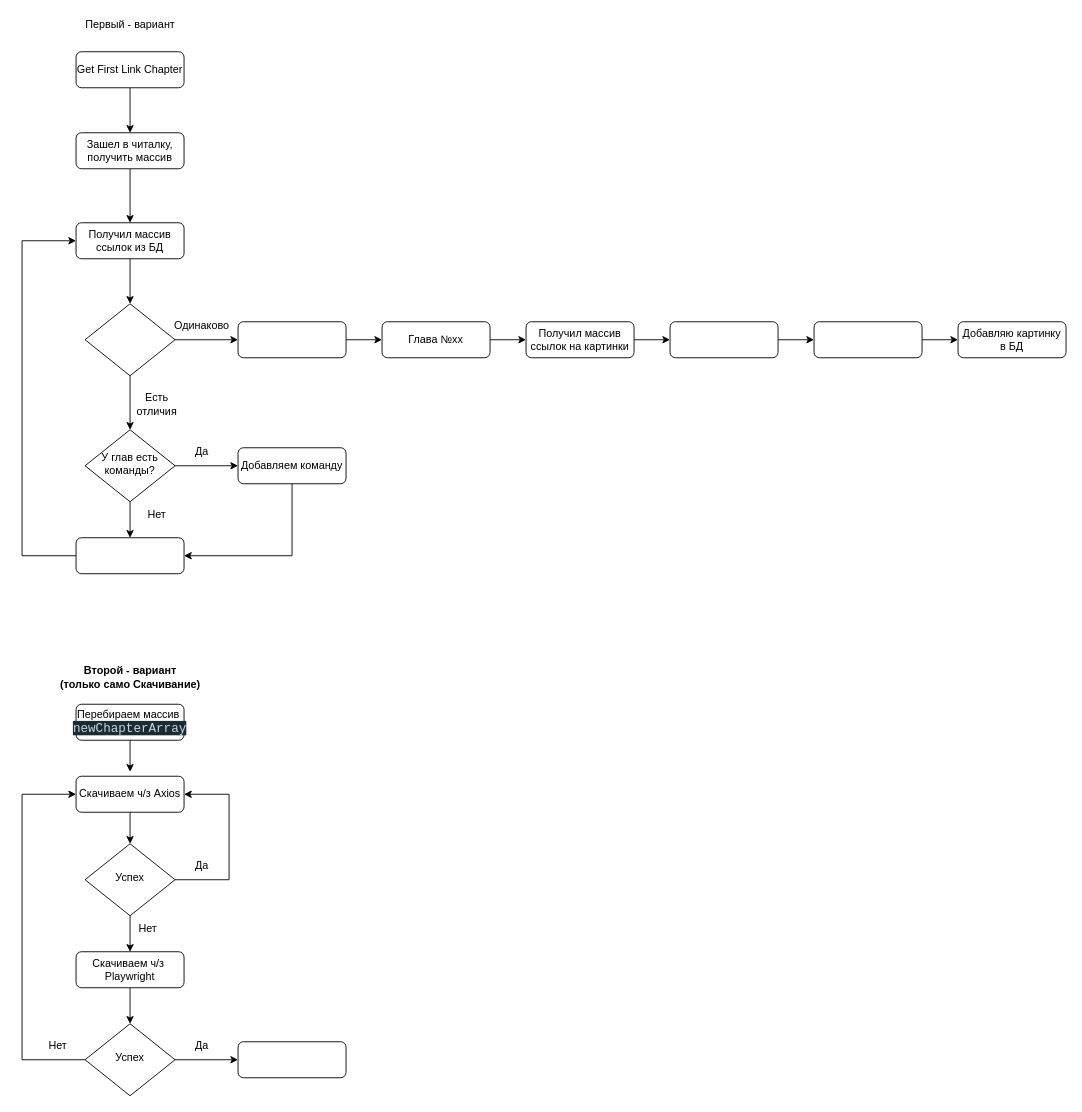
Image size: 1082x1112. Some labels were removed from this diagram. The shapes that lost their labels are listed below. From the top down, each one's centre as x and y in pixels, then its label:
At point (129, 339): "Сравнение ссылок в БД".
At point (291, 339): "Проходимся по главам в цикле".
At point (723, 339): "Прохожусь по картинкам в цикле".
At point (867, 339): "Скачиваю картинку".
At point (129, 555): "Добавляем главы в БД".
At point (291, 1059): "qwe".
